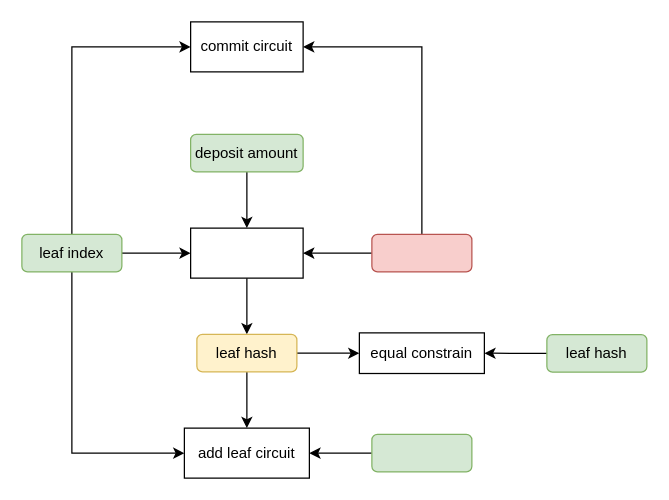
Some shapes in this 669 by 500 pixel diagram are drawn without their labels. The shapes that lost their labels are listed below. From the top down, each one's centre as x and y in pixels, then its label:
At [246,252]: "hash circuit".
At [421,252]: "secret".
At [421,452]: "prev root".
